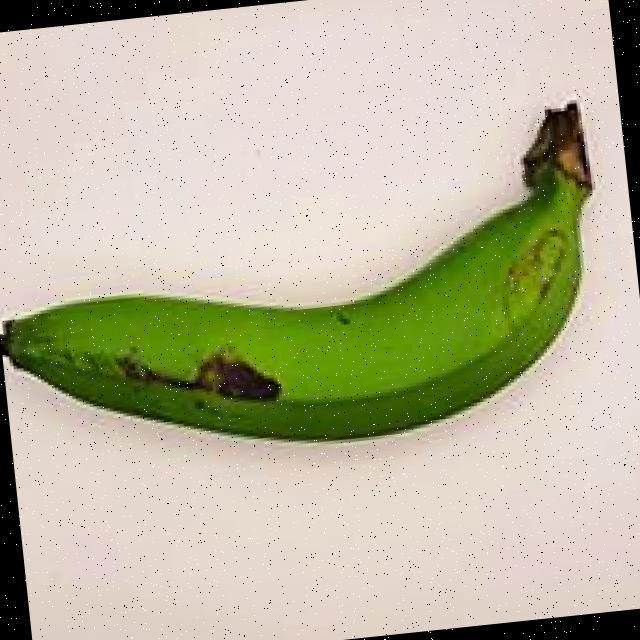Raw: (0, 76, 634, 505)
